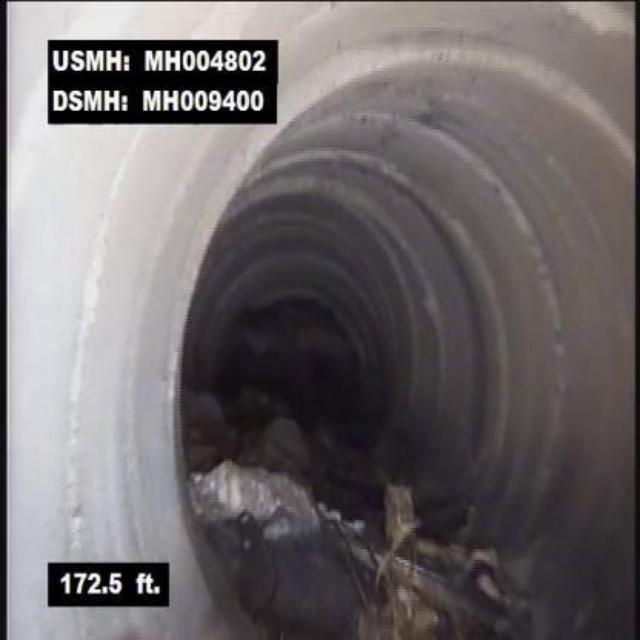Obstacle: (182, 454, 515, 638)
